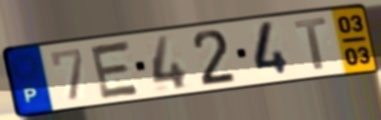2: (192, 28, 240, 88)
4: (251, 19, 296, 80), (148, 33, 192, 92)
7: (46, 46, 87, 103)
E: (88, 38, 143, 102)
T: (292, 15, 330, 72)
